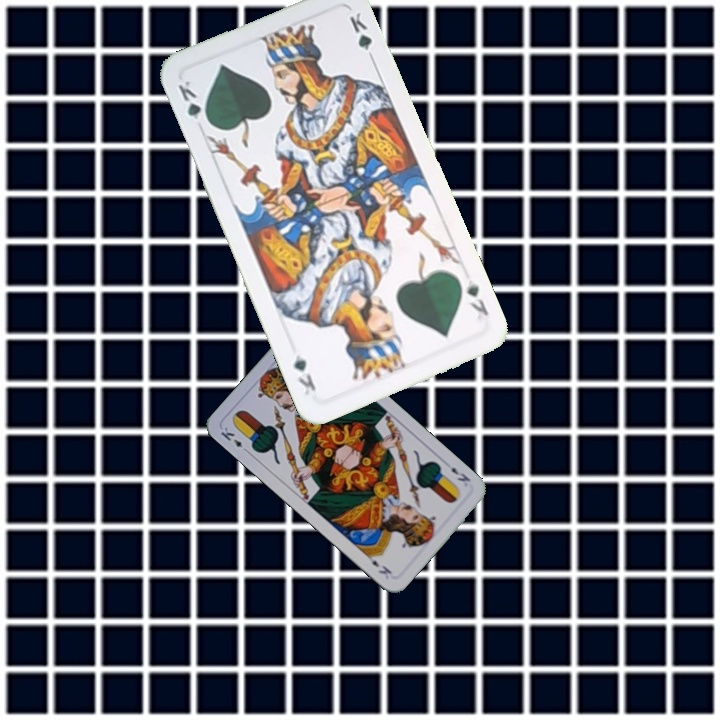EK: (216, 423, 252, 456), (447, 463, 473, 484)
GK: (174, 76, 213, 128), (462, 275, 491, 318)
